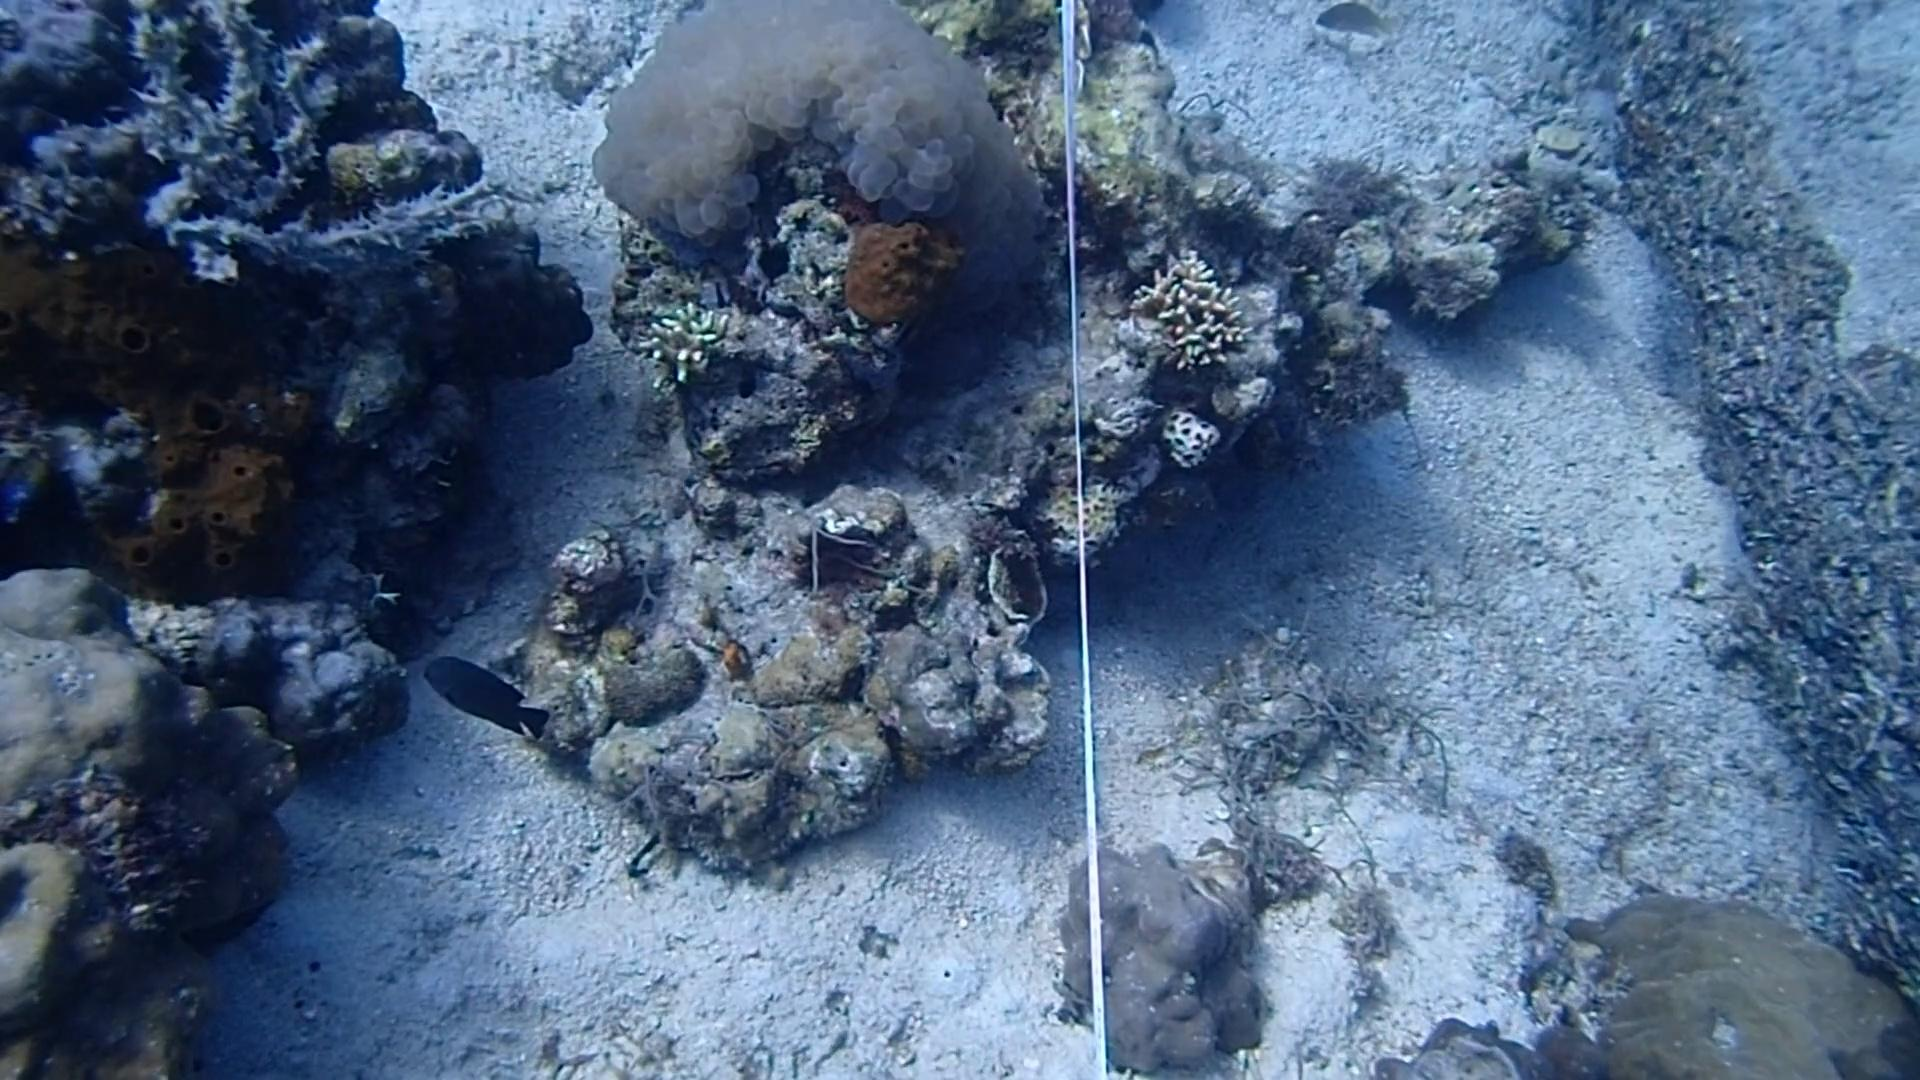Big Dark Blue Fish: (411, 646, 563, 752)
Light Fish: (1315, 4, 1399, 49)
